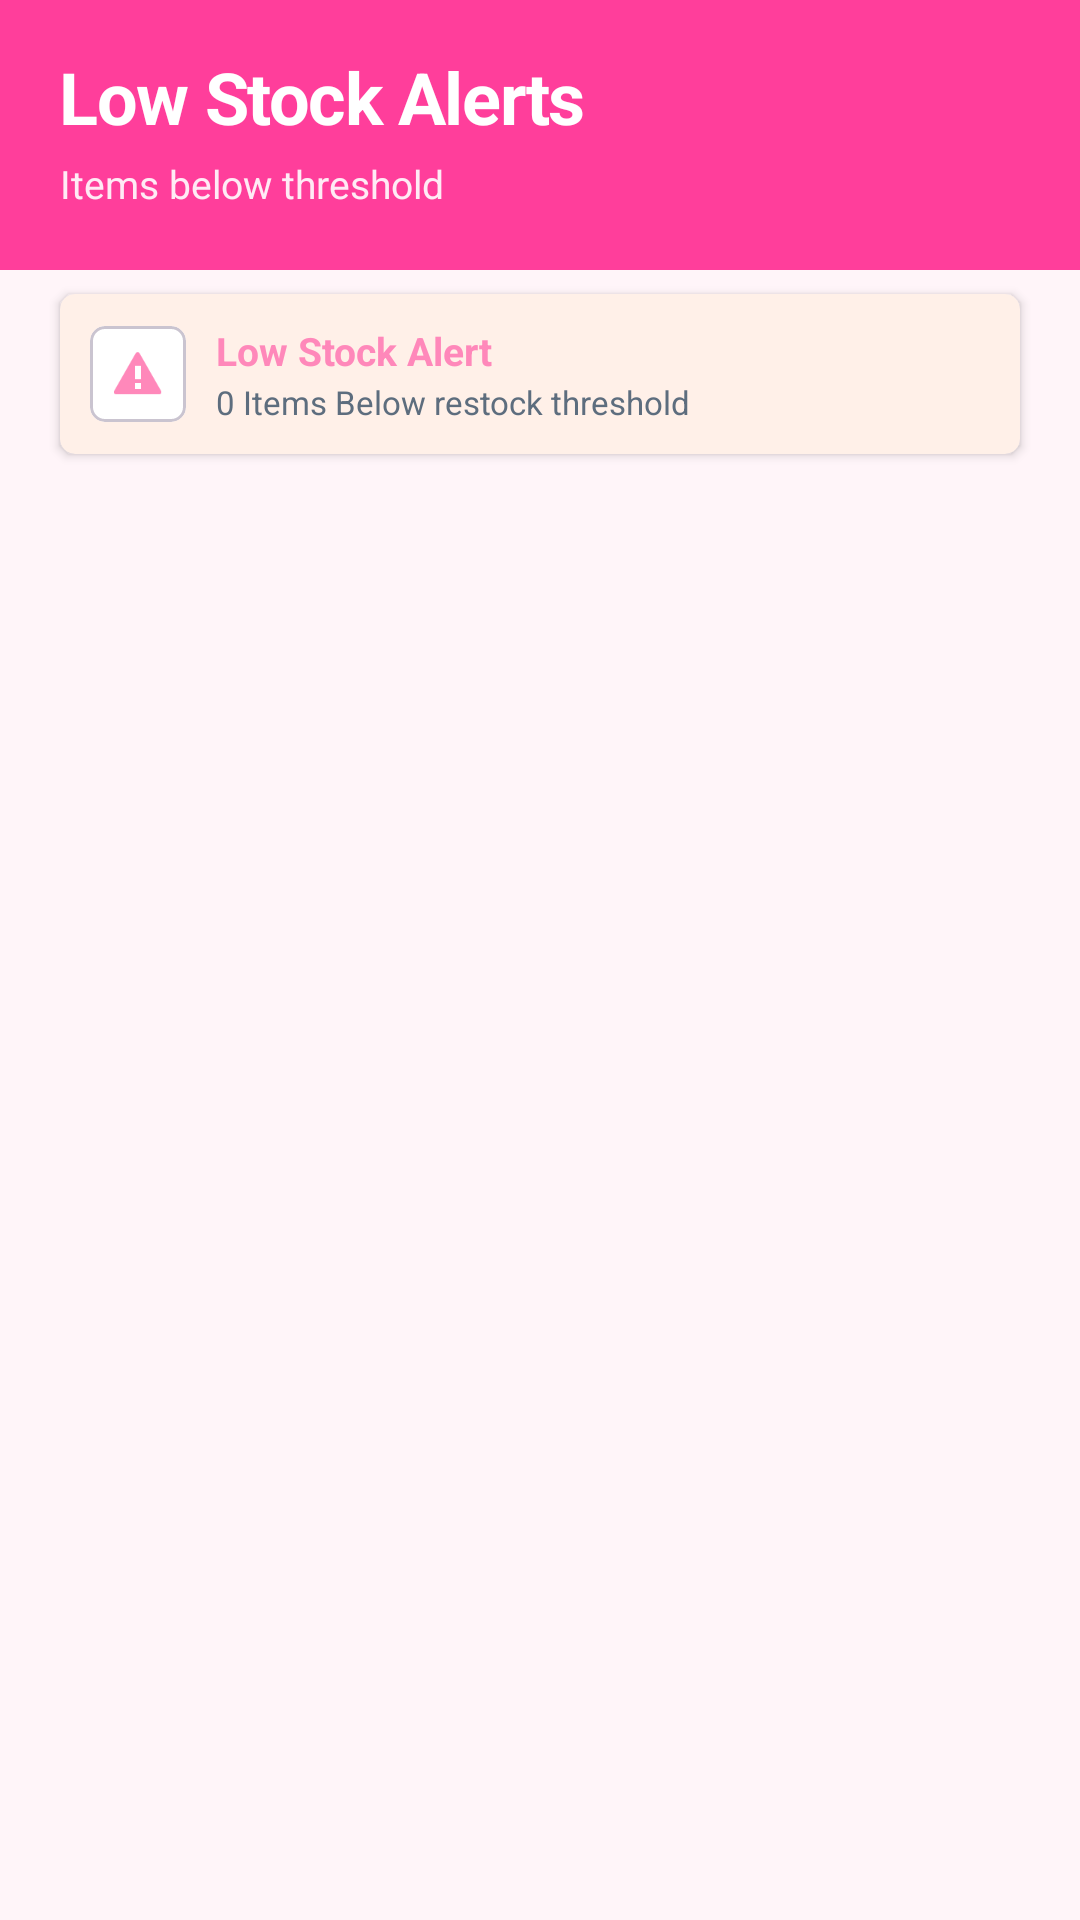

Locate icon controls on the screen. Image size 1080px×1920px, boxes as (x1, y1, x2, y2).
warning: (114, 352, 161, 394)
